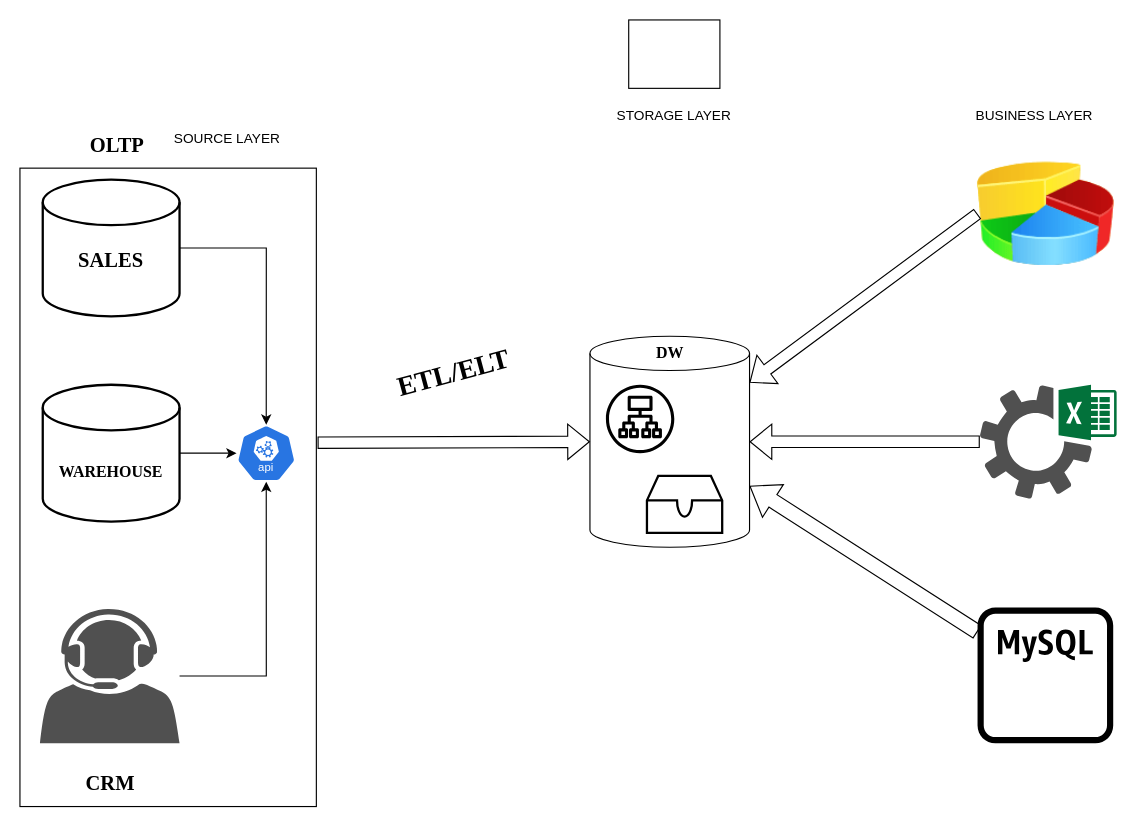
Image size: 1137x827. Some labels were removed from this diagram. Here are the shapes that lost their labels. From the top down, the box of each, then its label:
(628, 19, 720, 88): eShop
(977, 145, 1114, 282): BI
